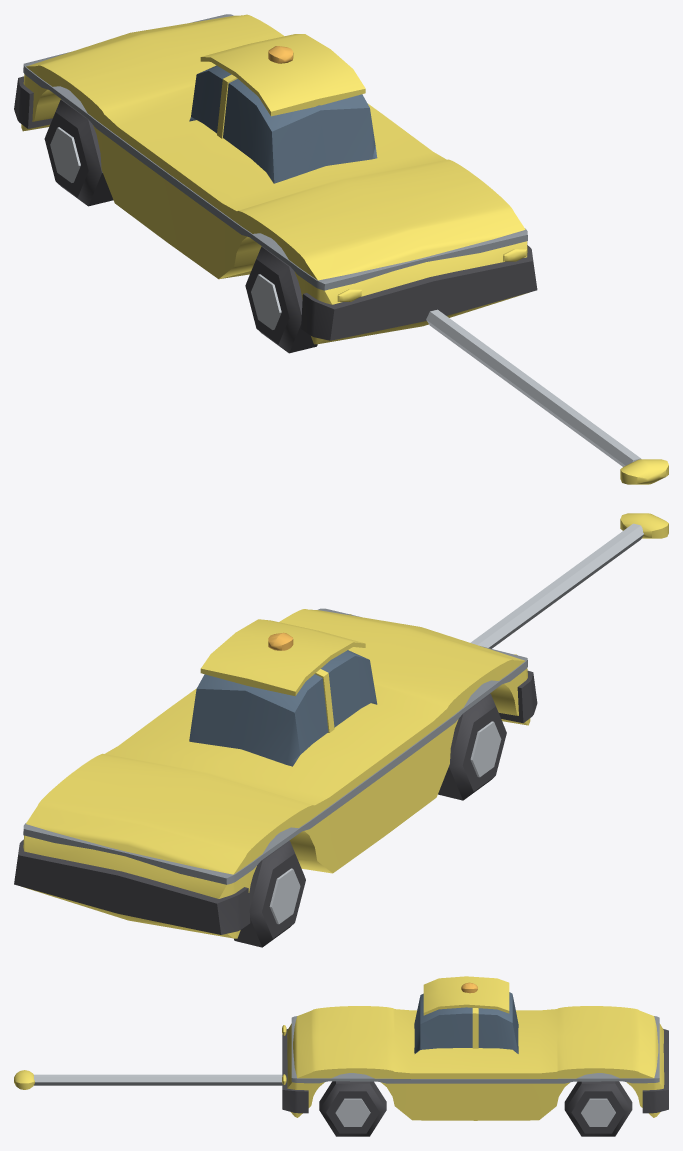
Rendered from tracteur_repoussage-CHYFULsB.glb.
3 renders of one model, top to bottom at view 1: azimuth 30°, elevation 25°; view 2: azimuth 150°, elevation 25°; view 3: azimuth 270°, elevation 25°, orthographic. The views are drawn at different scales.
Visible parts, largest first — view 1: carrosserie, roues, barre_remorquage; view 2: carrosserie, roues, barre_remorquage; view 3: carrosserie, roues, barre_remorquage.
Part boxes in pixels (bbox=[...]): carrosserie: bbox=[14, 14, 537, 344]; roues: bbox=[44, 99, 317, 353]; barre_remorquage: bbox=[426, 309, 668, 484]; carrosserie: bbox=[14, 608, 537, 938]; roues: bbox=[234, 693, 506, 947]; barre_remorquage: bbox=[470, 513, 668, 648]; carrosserie: bbox=[282, 976, 668, 1120]; roues: bbox=[319, 1081, 632, 1136]; barre_remorquage: bbox=[14, 1070, 282, 1089].
Bounding box in the file's own units: 2.56 × 2.22 × 10.67.
